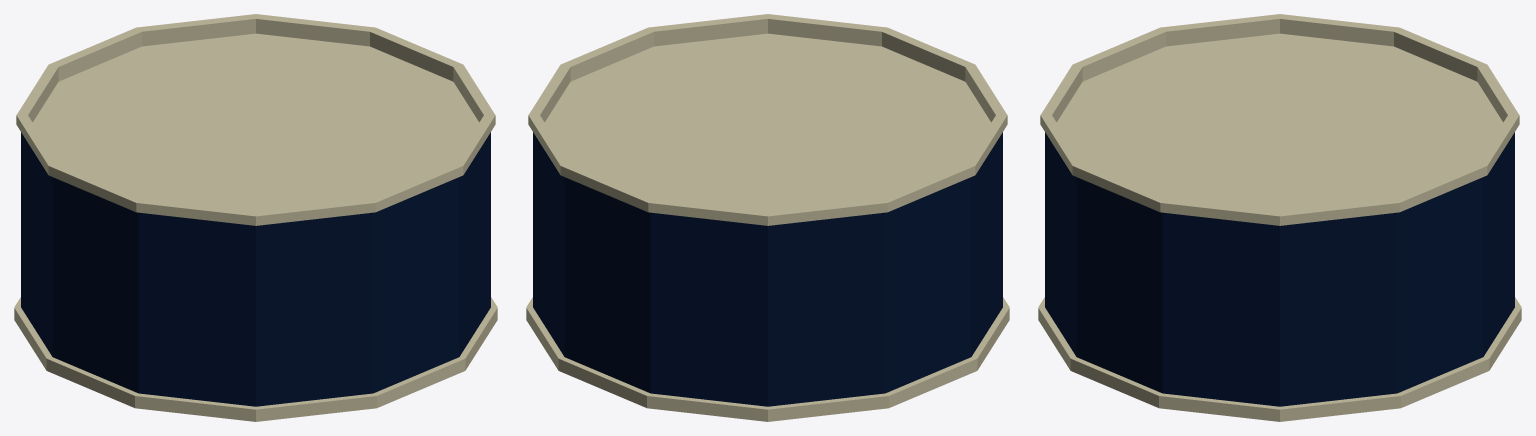
The model's file is Canned_Sprat_vc.fbx.
3 views of the same model, side by side, from view 1: azimuth 30°, elevation 25°; view 2: azimuth 150°, elevation 25°; view 3: azimuth 270°, elevation 25° (orthographic).
Parts seen in each view (by area): view 1: Canned_Sprat_vc; view 2: Canned_Sprat_vc; view 3: Canned_Sprat_vc.
Part boxes in pixels (x1=…): Canned_Sprat_vc: x1=14, y1=14, x2=497, y2=421; Canned_Sprat_vc: x1=526, y1=14, x2=1009, y2=421; Canned_Sprat_vc: x1=1038, y1=14, x2=1521, y2=421.
Bounding box in the file's own units: 9.86 × 4.6 × 9.86.
